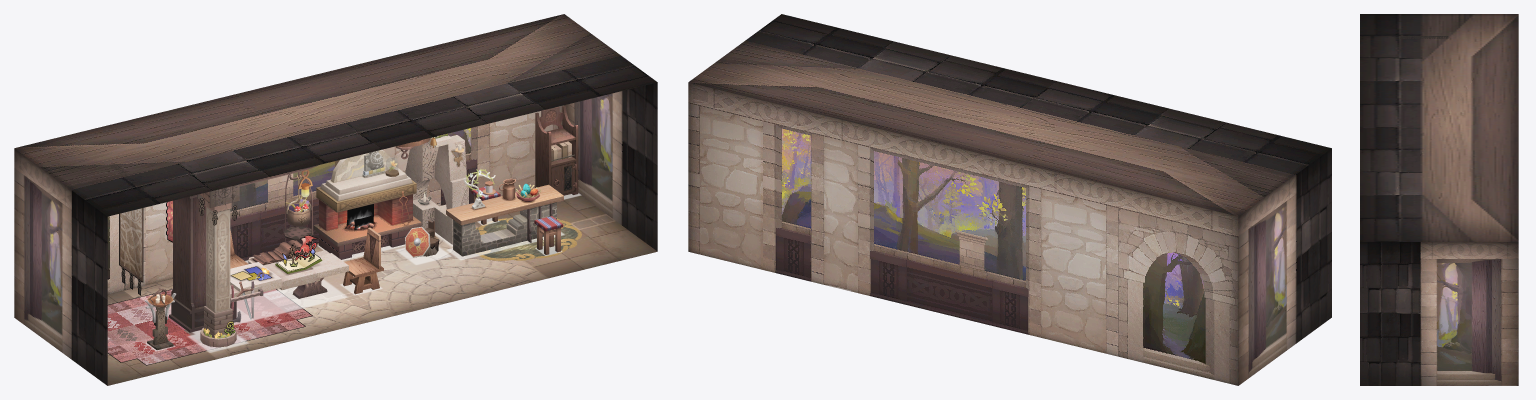
Rendered from tarahouse.glb.
The picture shows the model from 3 angles, left to right: view 1: azimuth 30°, elevation 25°; view 2: azimuth 150°, elevation 25°; view 3: azimuth 270°, elevation 25°; orthographic projection. The views are drawn at different scales.
Parts seen in each view (by area): view 1: ROOM_room, ROOM_floor, furni_tarahouse_table_01, furni_tarahouse_stove_01, furni_tarahouse_carpet_01, furni_tarahouse_bartable_01, furni_tarahouse_stonecutoff_01, furni_tarahouse_column_01, furni_tarahouse_bookcase_01, shadow_01.002, furni_tarahouse_carpet_02, furni_tarahouse_hangingcarpet_02 (+9 smaller); view 2: ROOM_room, ROOM_LDoor; view 3: ROOM_room, ROOM_RDoor.
Boxes of the visible parts, left/top/right/bottom form: ROOM_room: left=14, top=14, right=657, bottom=385; ROOM_floor: left=107, top=194, right=657, bottom=385; furni_tarahouse_table_01: left=169, top=165, right=348, bottom=332; furni_tarahouse_stove_01: left=313, top=149, right=421, bottom=259; furni_tarahouse_carpet_01: left=107, top=289, right=312, bottom=365; furni_tarahouse_bartable_01: left=446, top=178, right=563, bottom=256; furni_tarahouse_stonecutoff_01: left=405, top=135, right=468, bottom=244; furni_tarahouse_column_01: left=197, top=184, right=239, bottom=347; furni_tarahouse_bookcase_01: left=535, top=106, right=578, bottom=195; shadow_01.002: left=192, top=279, right=347, bottom=334; furni_tarahouse_carpet_02: left=475, top=217, right=581, bottom=260; furni_tarahouse_hangingcarpet_02: left=119, top=208, right=143, bottom=295; ROOM_room: left=688, top=14, right=1331, bottom=385; ROOM_LDoor: left=1299, top=251, right=1317, bottom=341; ROOM_room: left=1360, top=14, right=1518, bottom=385; ROOM_RDoor: left=1383, top=320, right=1415, bottom=385.
Bounding box in the file's own units: 7.51 × 2.2 × 2.24.
Materials: 8 (8 with a texture image).
